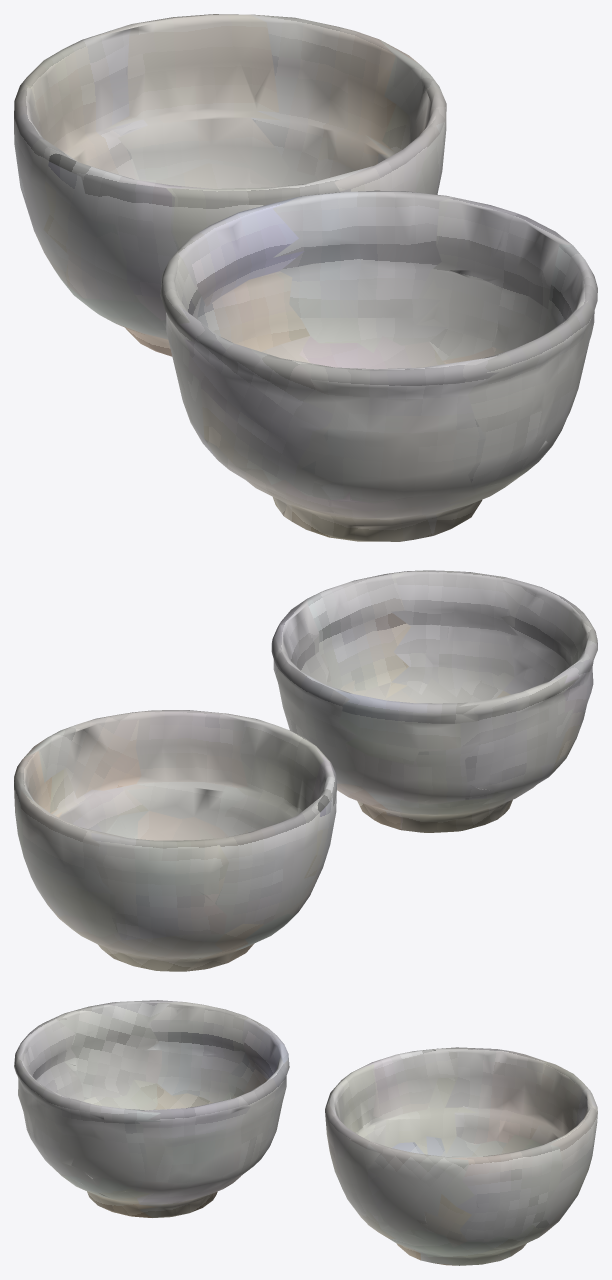
File: JP_사물_s2_item_empty_bowl.glb
3 views of the same model, one above another, from view 1: azimuth 30°, elevation 25°; view 2: azimuth 150°, elevation 25°; view 3: azimuth 270°, elevation 25° (orthographic). The views are drawn at different scales.
Visible parts, largest first — view 1: tripo_node_43ca42da-2ffc-4ede-b213-1029a4ab2b41; view 2: tripo_node_43ca42da-2ffc-4ede-b213-1029a4ab2b41; view 3: tripo_node_43ca42da-2ffc-4ede-b213-1029a4ab2b41.
Boxes of the visible parts, x1,y1,x2,y2 form: tripo_node_43ca42da-2ffc-4ede-b213-1029a4ab2b41: (14, 14, 597, 541); tripo_node_43ca42da-2ffc-4ede-b213-1029a4ab2b41: (14, 570, 597, 971); tripo_node_43ca42da-2ffc-4ede-b213-1029a4ab2b41: (14, 1000, 597, 1265).
Size of the model in its own units: 0.5867 by 0.2931 by 1.
1 material, 1 textured.
